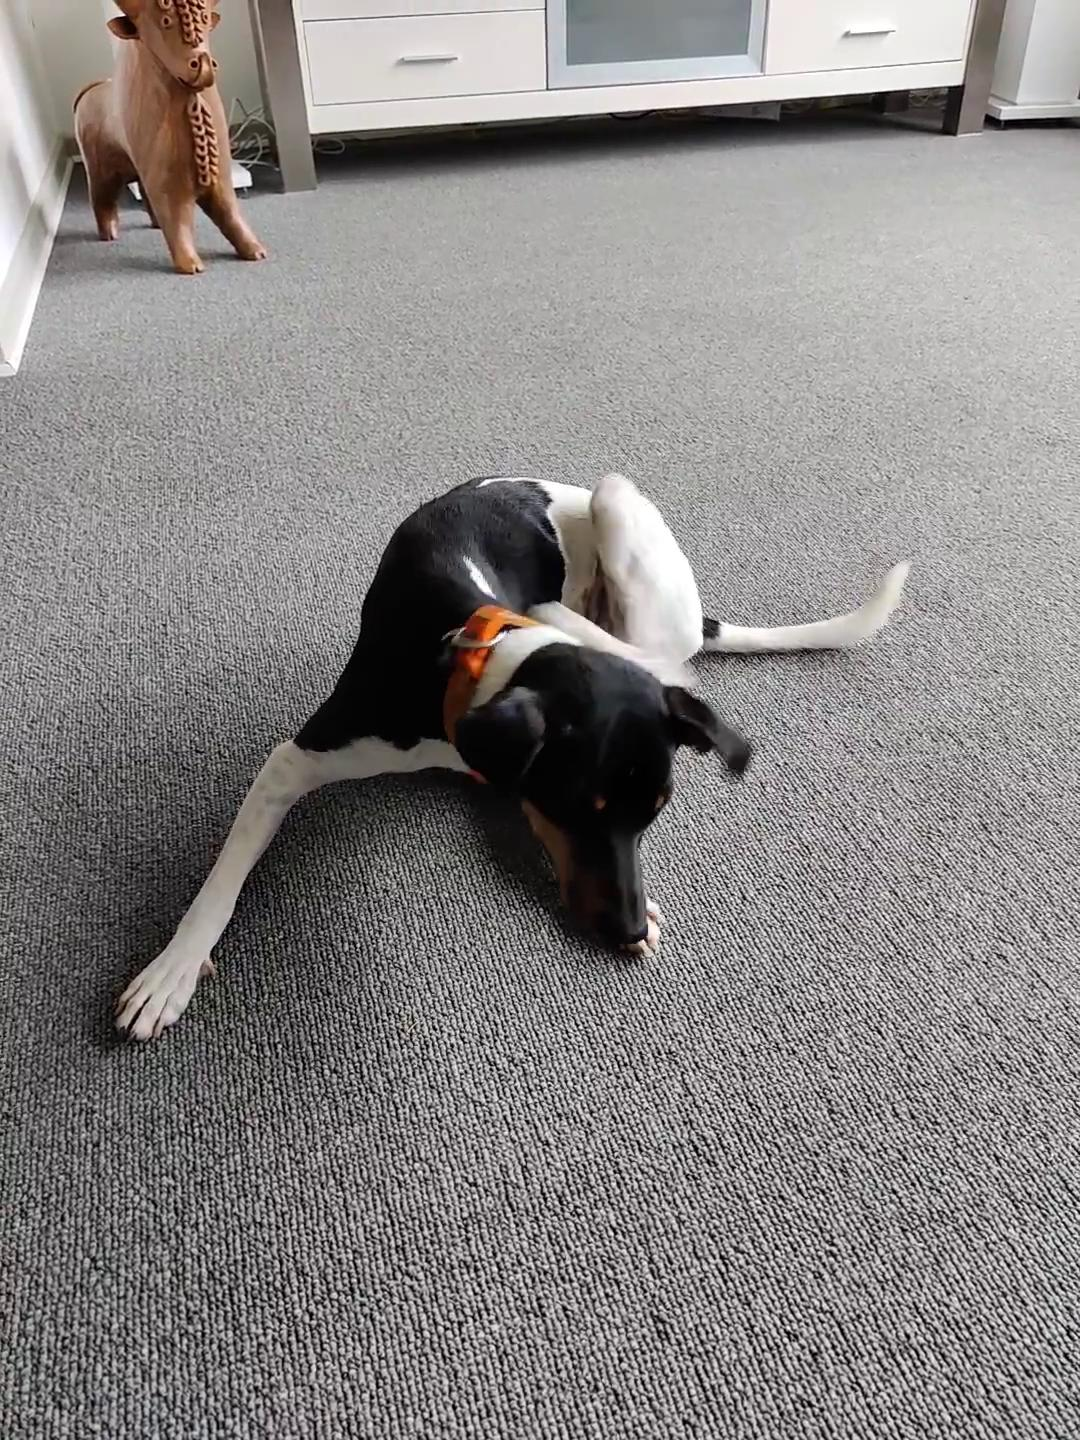Dog: (107, 468, 913, 1043)
